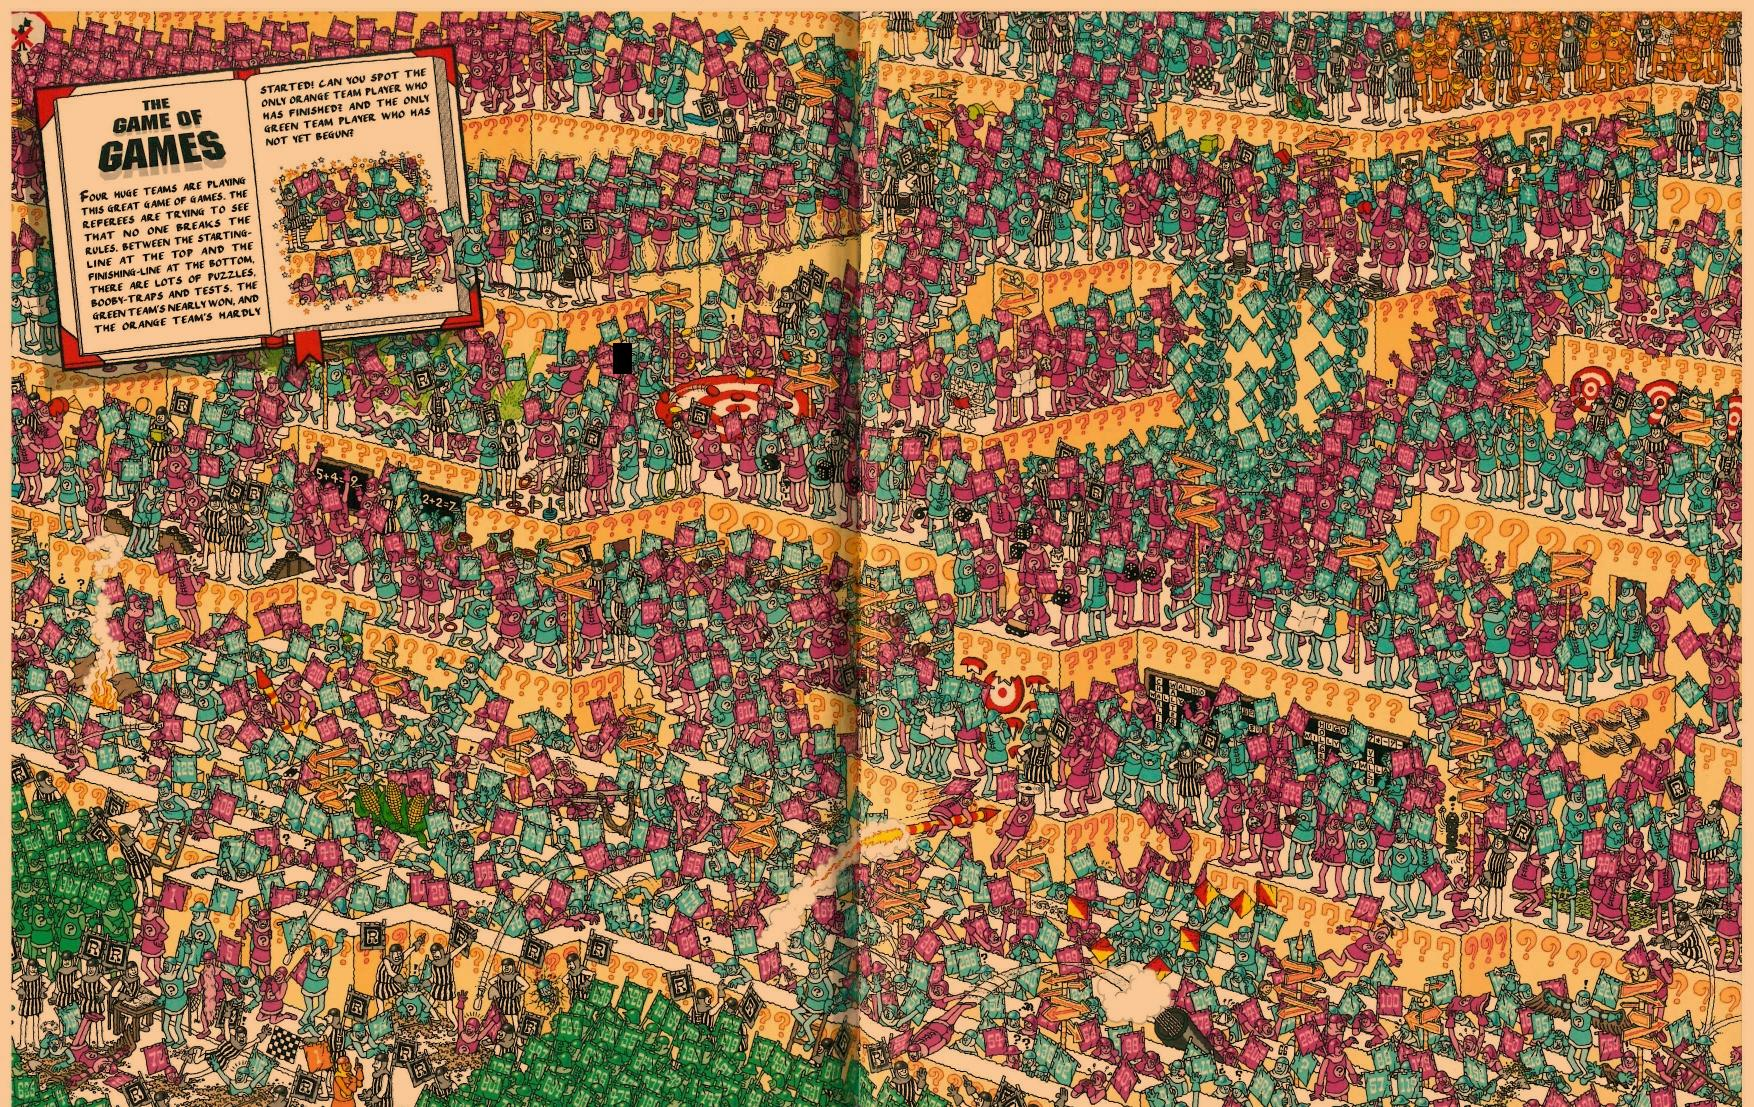waldos: (1321, 227, 1340, 258)
